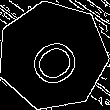O_NE: (20, 24, 86, 88)
